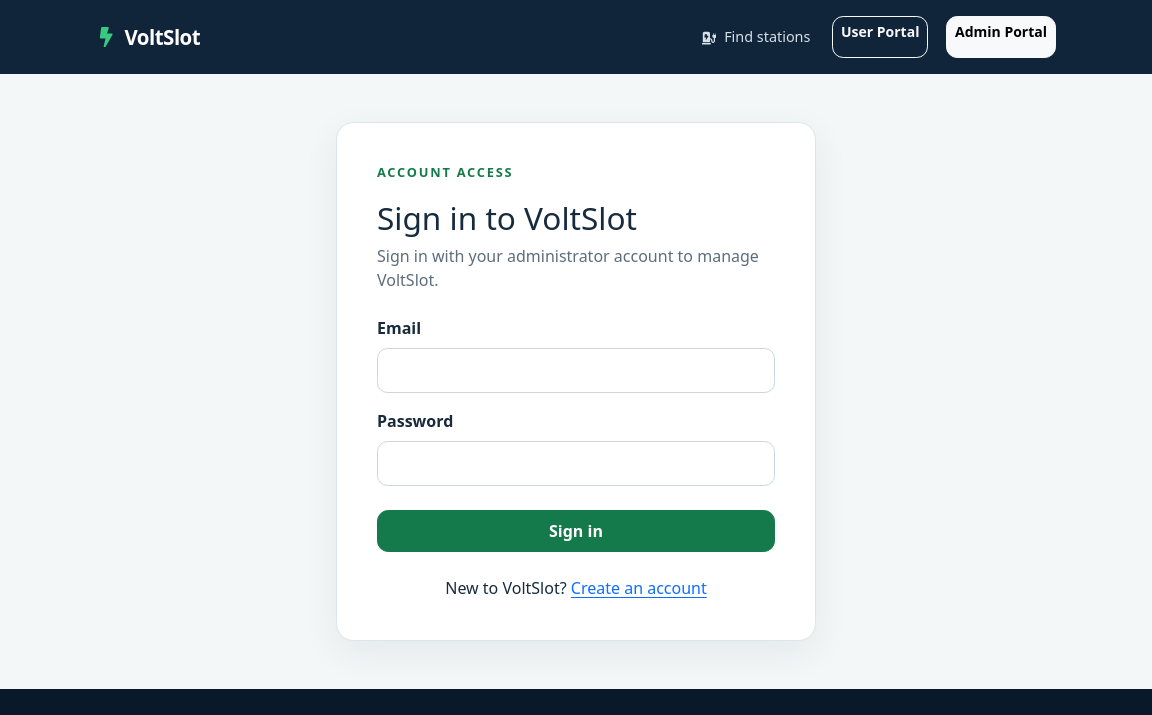
Test case: VoltSlot station frontend › rejects a customer account from the admin login without saving its token
Step 1. Type "customer@example.com" into the field labelled "Email" → (576, 371), box [377,348,775,393]
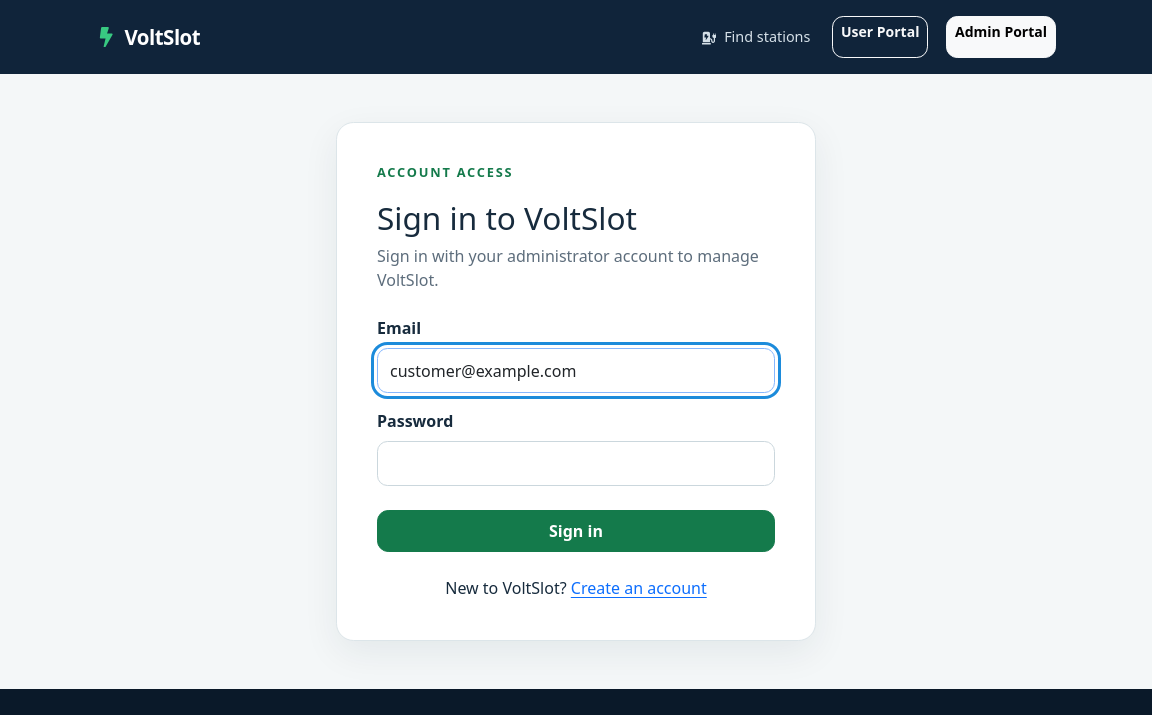
Step 2. Type "StrongPass123" into the password field labelled "Password" → (576, 464), box [377,441,775,486]
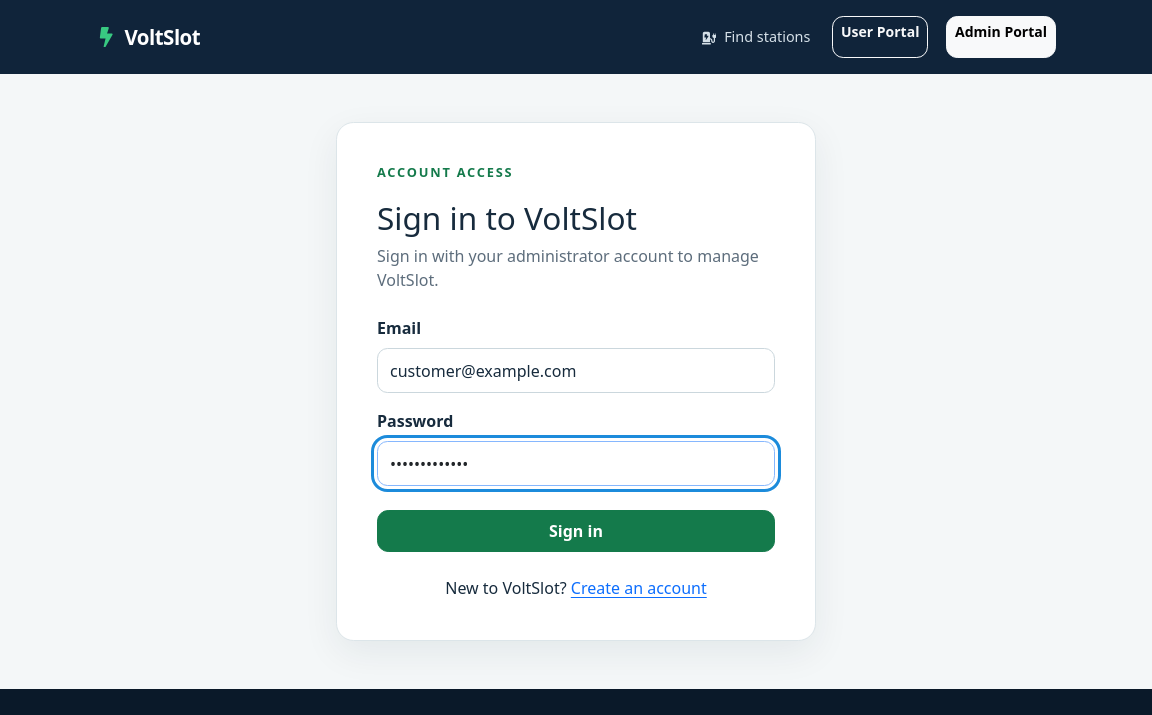
Step 3. Click the button "Sign in" → (576, 531), box [377,510,775,552]
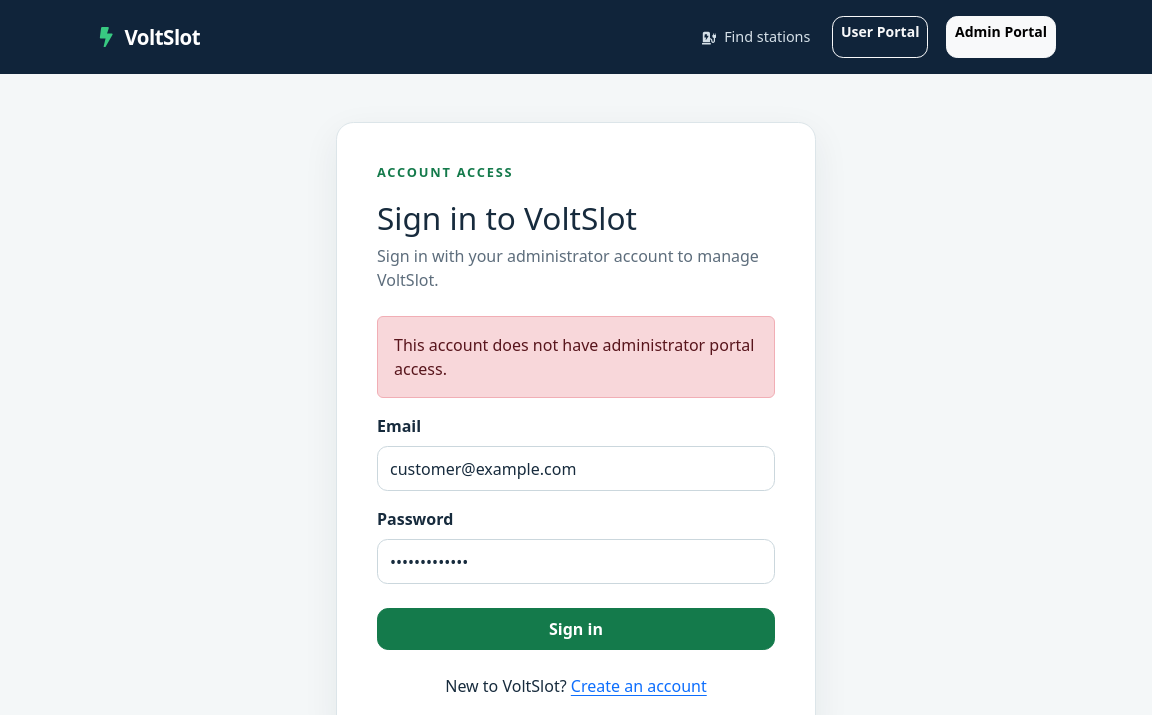
Now the text "This account does not have administrator portal access." is shown, box [394,334,758,382]
